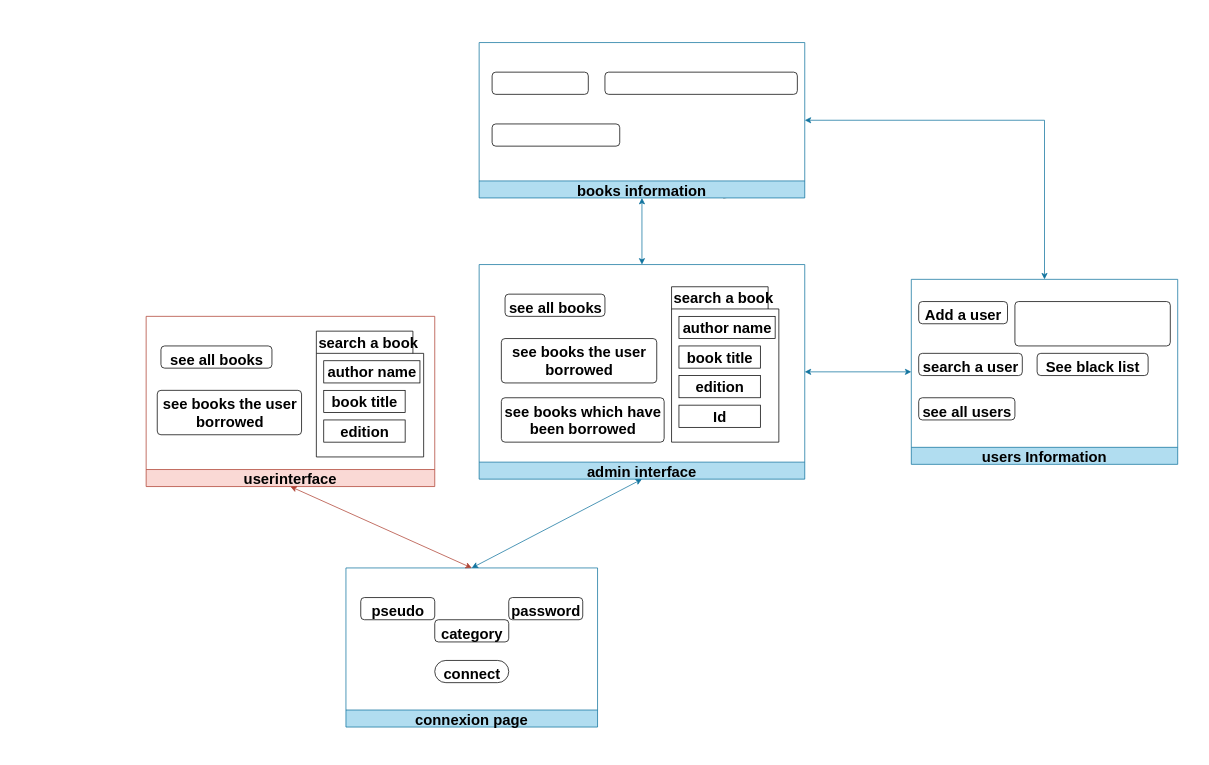
This 1209x765 diagram has some shape labels left out. Here are the shapes that lost their labels. From the top down, the centre of each, then its label:
(x=539, y=82): Lend a book
(x=700, y=82): Register a rutunr of book
(x=555, y=134): Add a new book
(x=1092, y=323): change the category of a user
